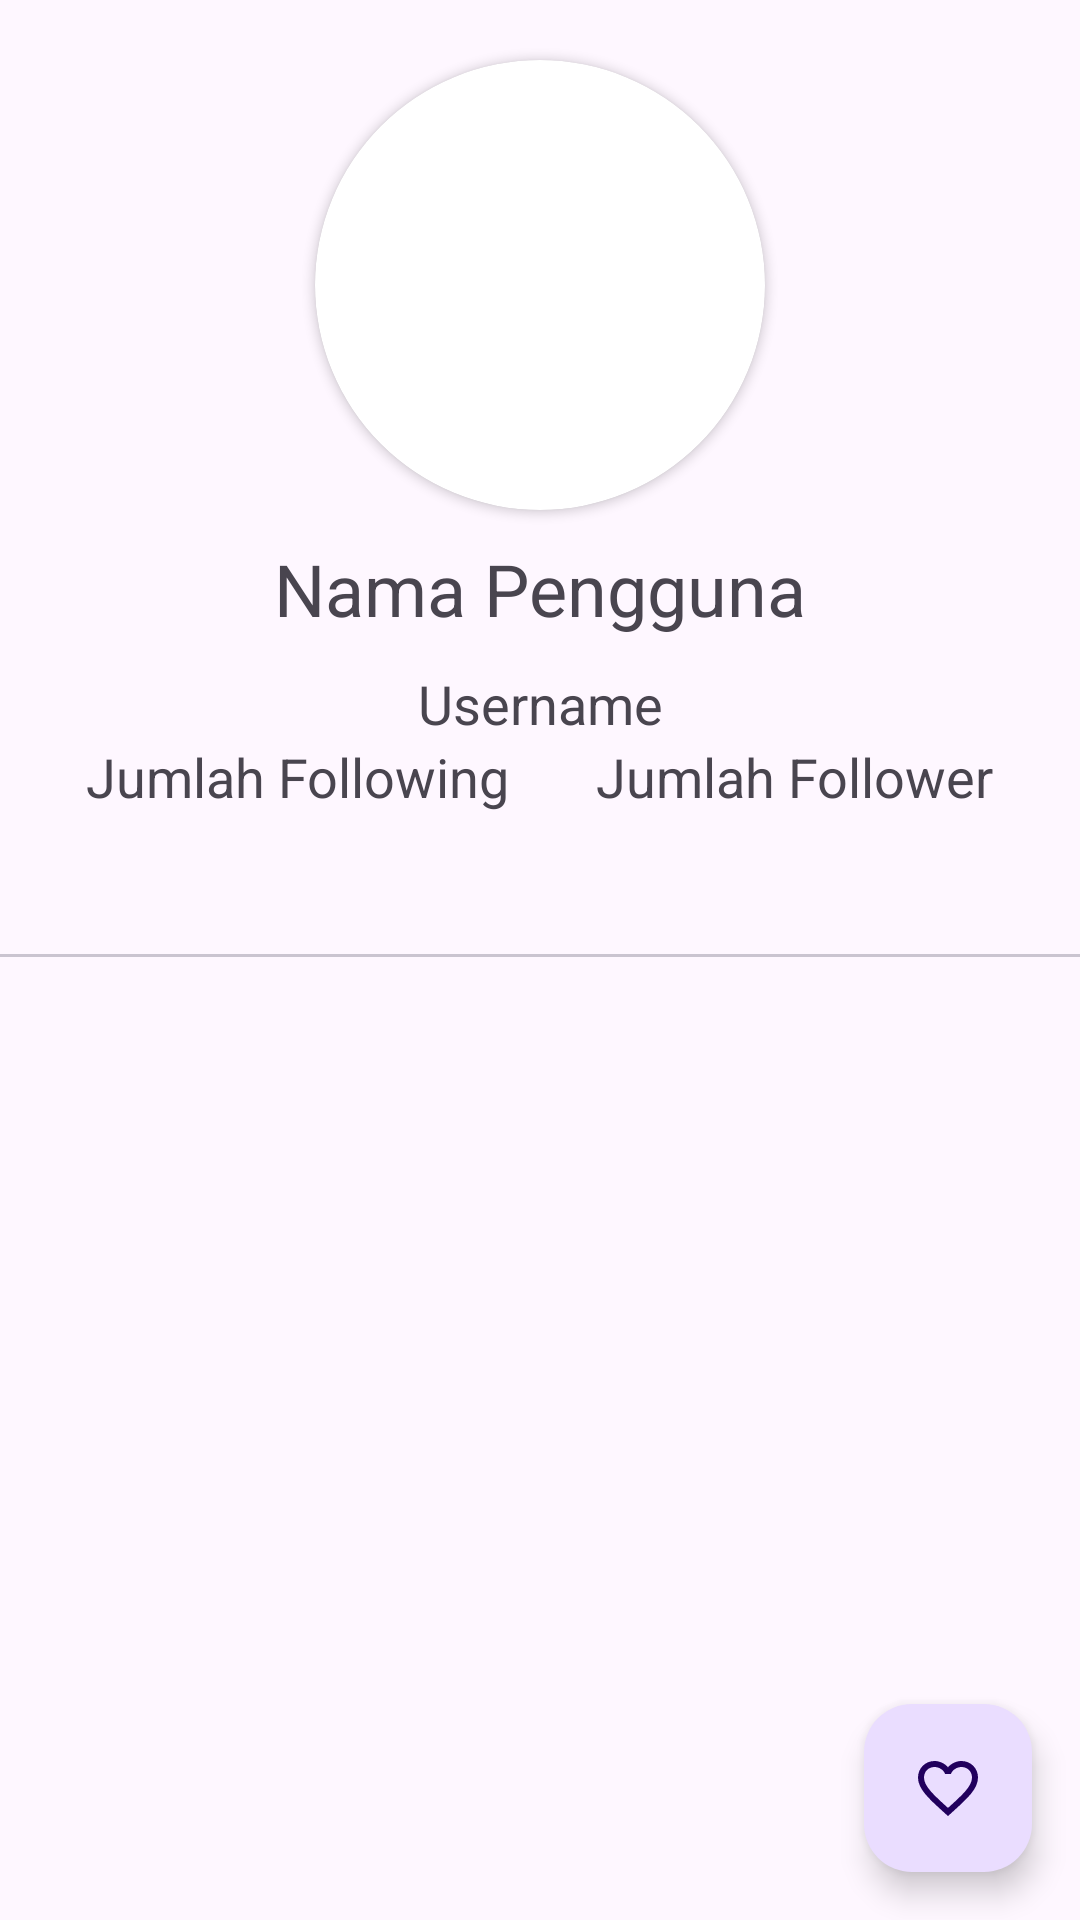

Named icons in this screenshot (1080x1920) and their centers, (x=x, y=y):
favorite border: (x=948, y=1788)
